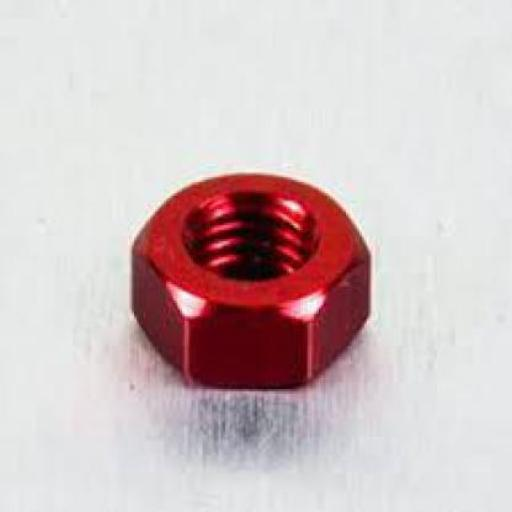Nut: (129, 172, 372, 392)
